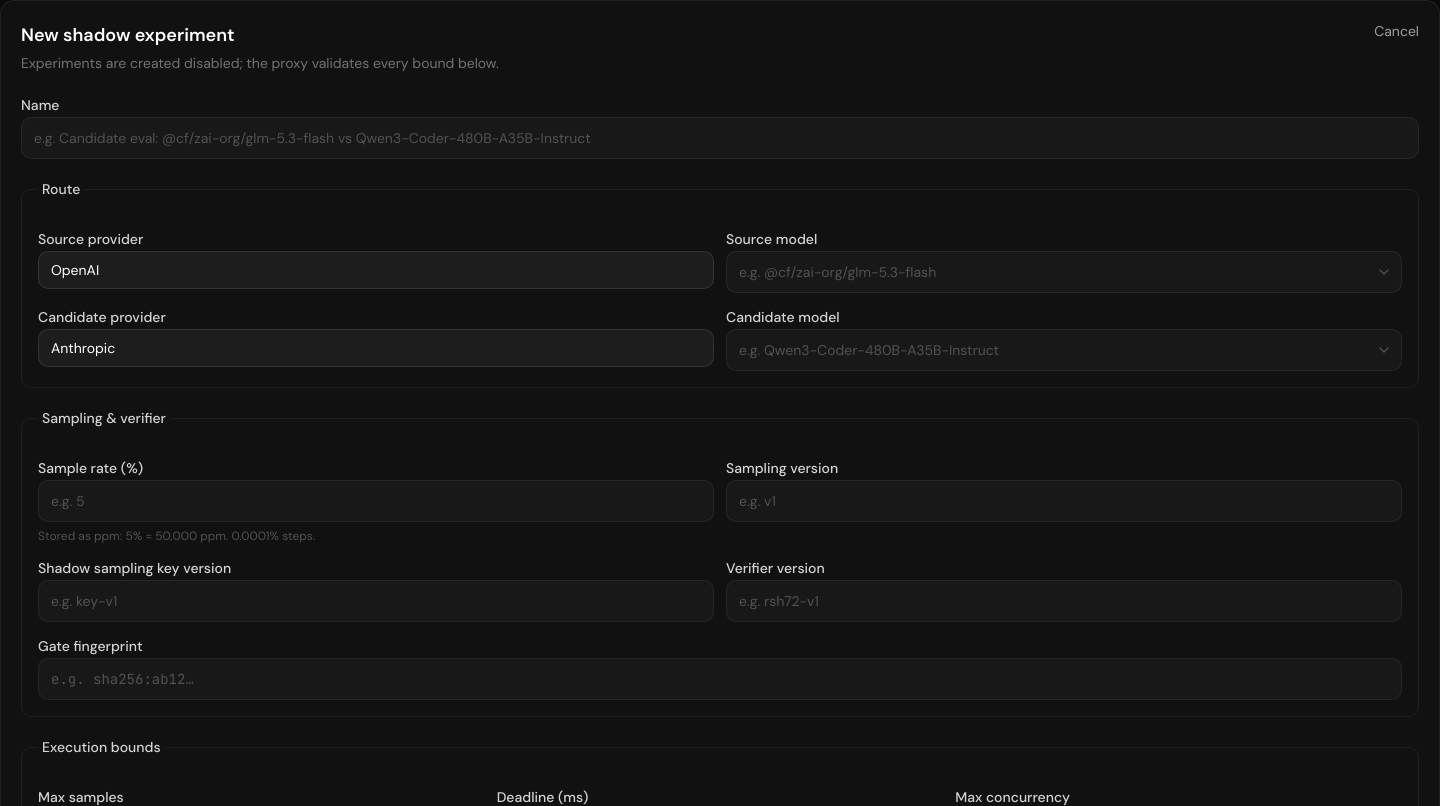
Test: ExperimentEditor client-side validation › requires the identity models and versions in order
The width and height of the screenshot is (1440, 806).
Replace the text in the field labelled "Name" with "Eval" at (720, 138), box [21,117,1419,159]
(page scrolled)
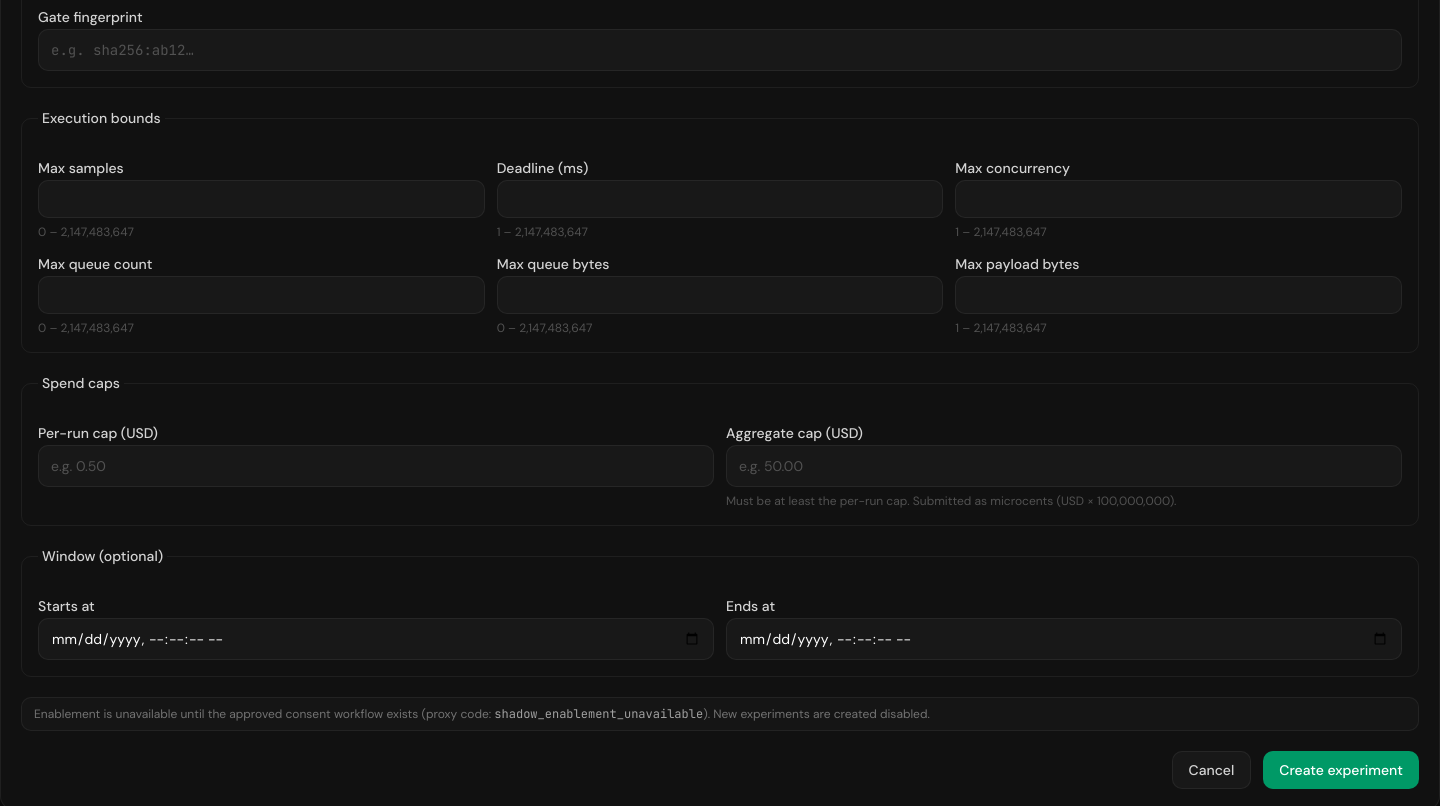
Click the button "Create experiment" at (1341, 770), box [1263,751,1419,789]
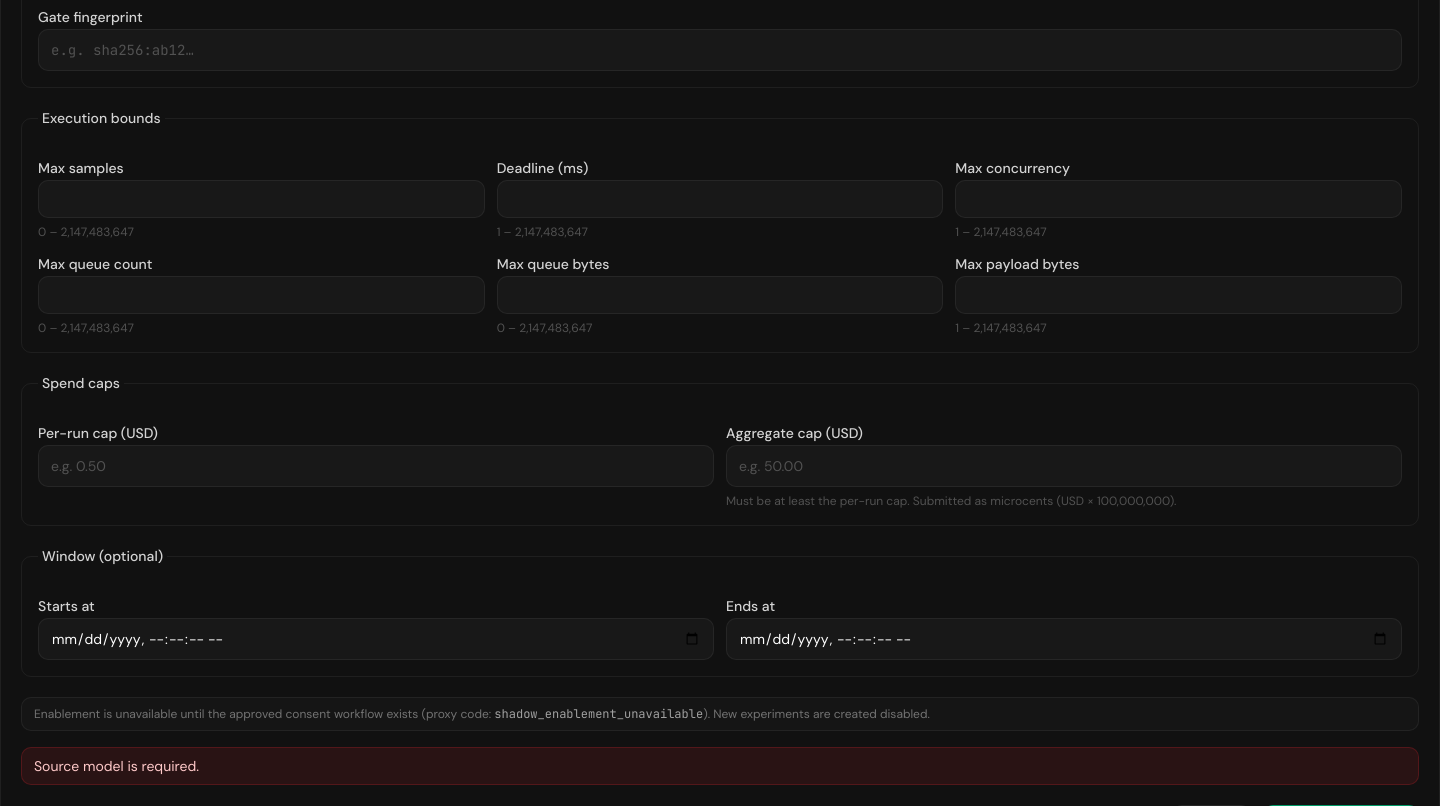
Result: the text "Source model is required." is shown at [21,747,1419,785]
